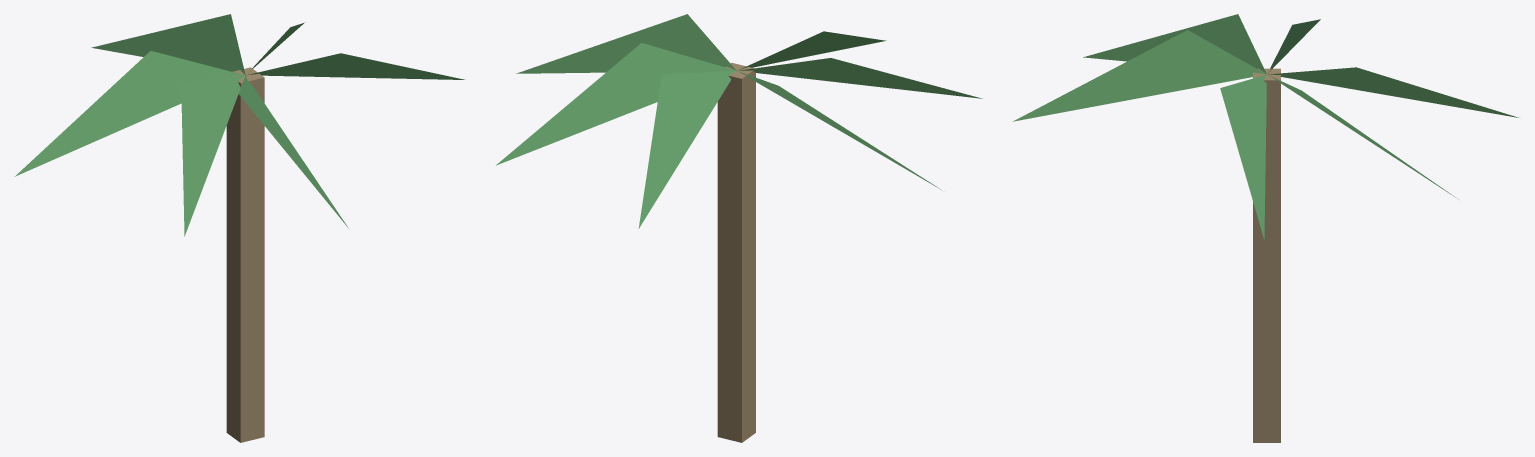
The model's file is palm_2.glb.
3 renders of one model, left to right at view 1: azimuth 30°, elevation 25°; view 2: azimuth 150°, elevation 25°; view 3: azimuth 270°, elevation 25°, orthographic.
Size of the model in its own units: 6.38 by 5.3 by 6.36.
